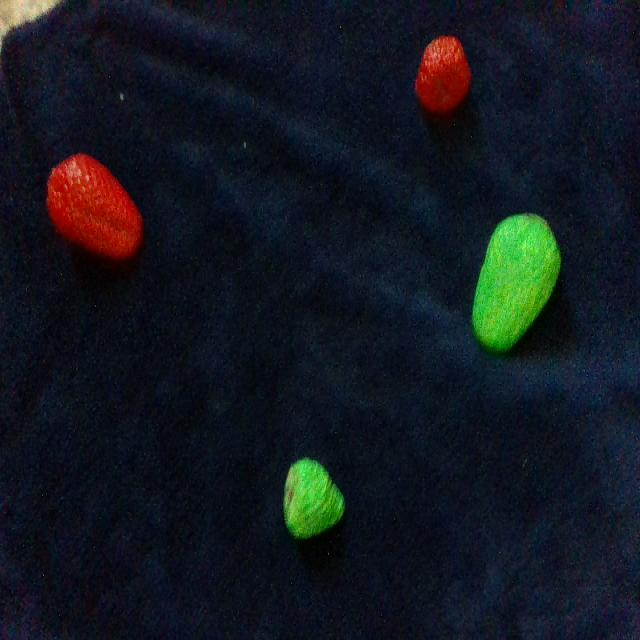chica_roja: (415, 36, 470, 112)
grande_roja: (48, 155, 140, 259)
verde: (473, 213, 560, 352), (285, 460, 344, 537)
